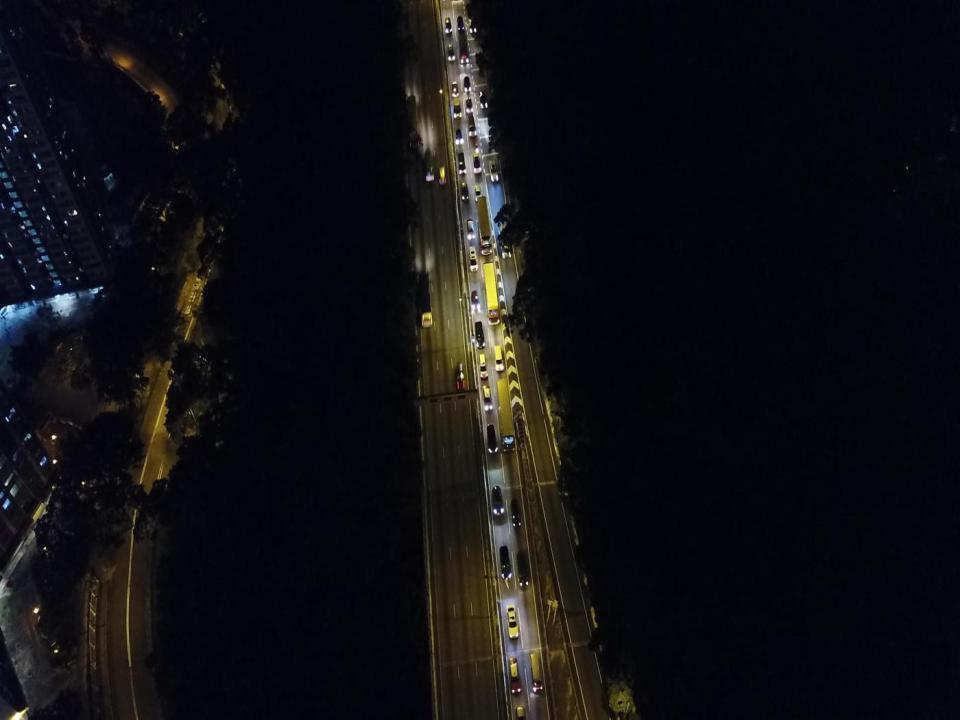bus: (496, 378, 516, 452), (483, 262, 500, 326), (477, 195, 493, 256), (418, 270, 433, 328)
car: (505, 604, 519, 639), (508, 657, 521, 694), (516, 552, 530, 586), (499, 545, 512, 579), (492, 485, 504, 516), (424, 150, 435, 182), (486, 424, 498, 453), (474, 321, 486, 349), (511, 497, 521, 527), (494, 344, 504, 372), (468, 245, 478, 272), (455, 363, 465, 390), (488, 159, 499, 183), (478, 353, 488, 378), (500, 238, 512, 258), (466, 218, 475, 240), (472, 152, 481, 174), (457, 152, 466, 174), (453, 98, 462, 119), (471, 290, 480, 310), (473, 184, 483, 202), (484, 388, 492, 410), (478, 90, 487, 109), (461, 181, 469, 201), (447, 43, 455, 62), (439, 164, 446, 185), (465, 96, 473, 114), (457, 14, 464, 34), (452, 81, 460, 98), (444, 16, 452, 33), (456, 128, 464, 144), (464, 76, 472, 92)
truck: (528, 652, 544, 692), (458, 33, 468, 66)
van: (467, 115, 477, 137)
